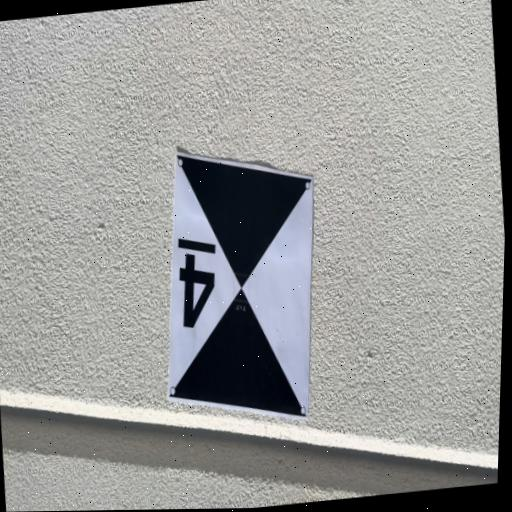target4: (167, 153, 315, 418)
